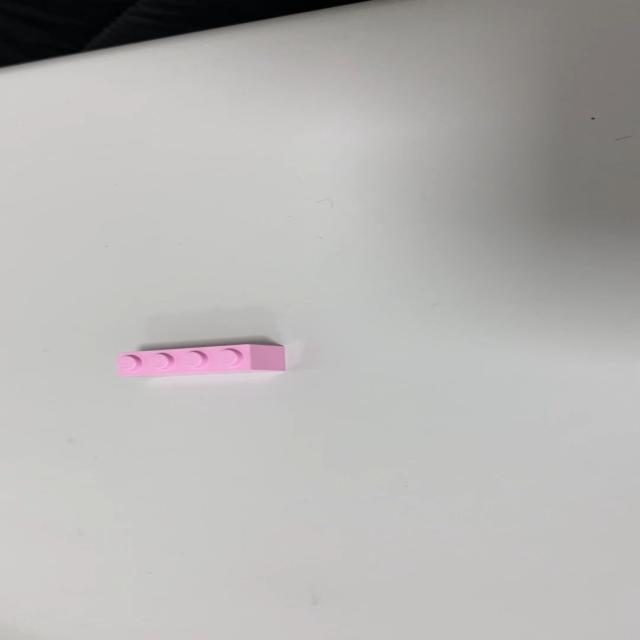C4x1x1: (115, 342, 286, 377)
